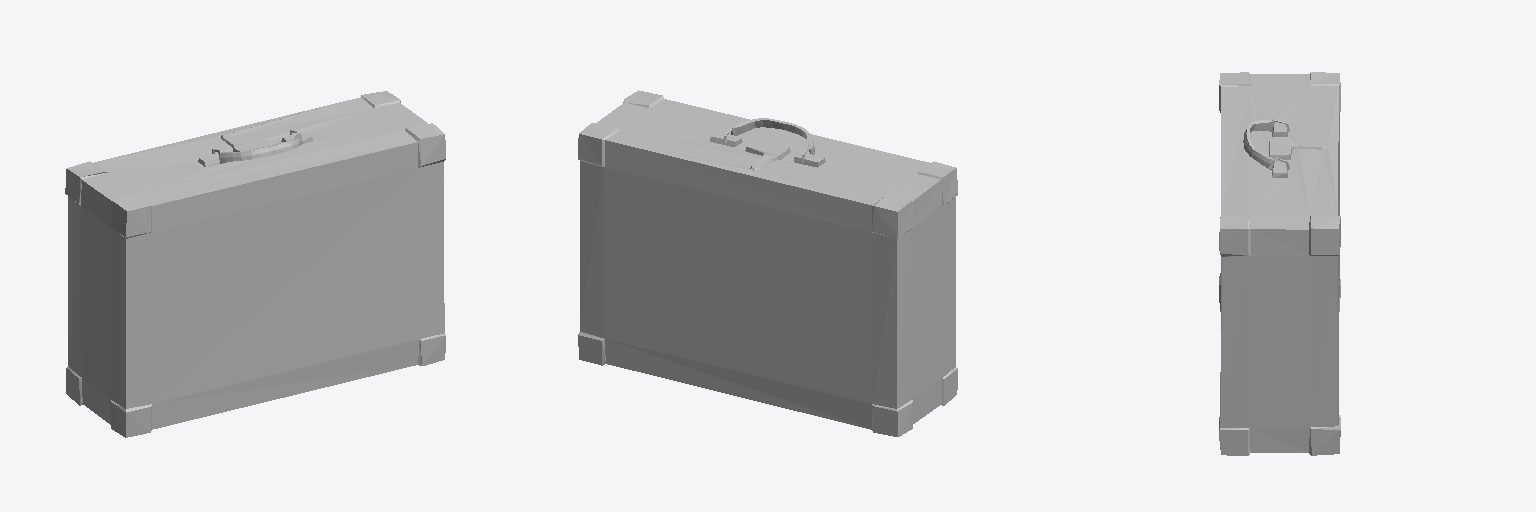
The picture shows the model from 3 angles: view 1: azimuth 30°, elevation 25°; view 2: azimuth 150°, elevation 25°; view 3: azimuth 270°, elevation 25°; orthographic projection.
Visible parts, largest first — view 1: chemodan_lowpoly, Hand_retopologyzed; view 2: chemodan_lowpoly, Hand_retopologyzed; view 3: chemodan_lowpoly, Hand_retopologyzed.
Part boxes in pixels (left/top/right/bottom): chemodan_lowpoly: left=65, top=91, right=445, bottom=437; Hand_retopologyzed: left=212, top=130, right=302, bottom=163; chemodan_lowpoly: left=578, top=90, right=957, bottom=436; Hand_retopologyzed: left=724, top=118, right=814, bottom=163; chemodan_lowpoly: left=1219, top=72, right=1340, bottom=455; Hand_retopologyzed: left=1243, top=119, right=1289, bottom=169.
Size of the model in its own units: 4.81 by 3.5 by 1.59.